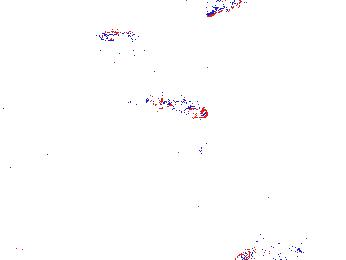X-ray fish: (234, 242, 301, 260), (294, 217, 335, 241), (191, 141, 225, 162)
red belly glassfish: (162, 93, 208, 122), (126, 92, 168, 112), (99, 26, 141, 41)
